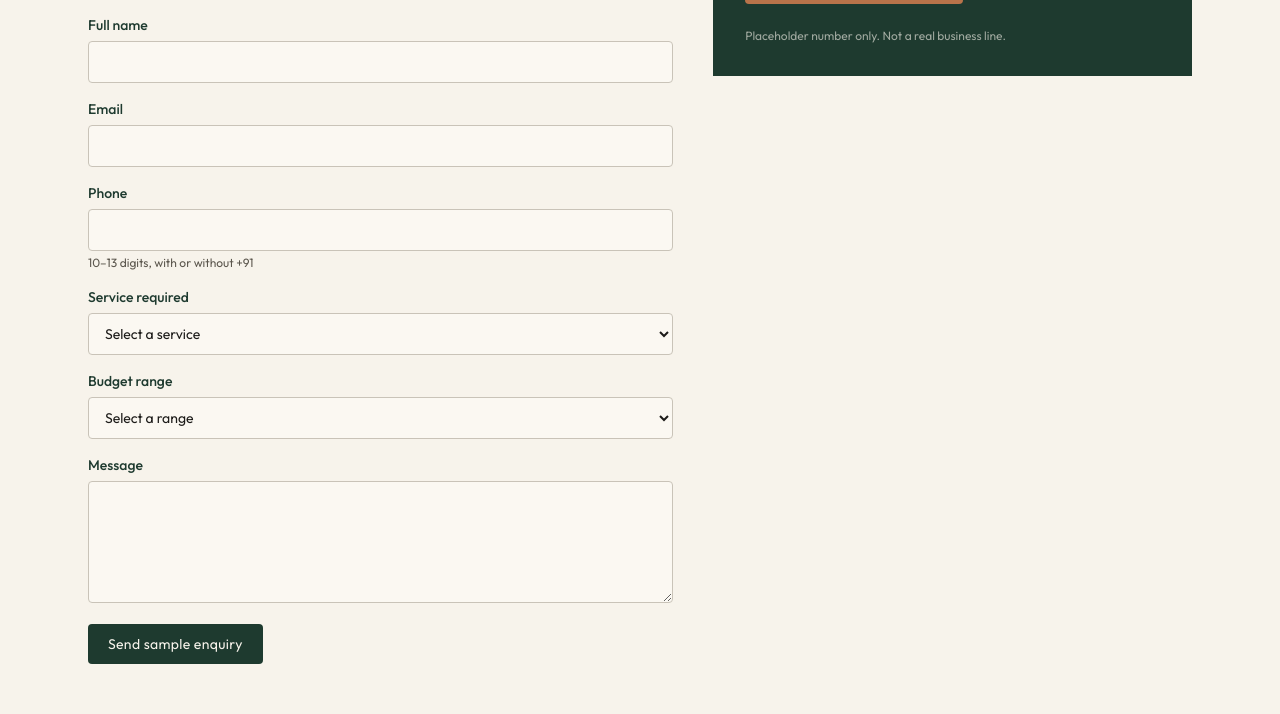
Test case: ContactPage › shows accessible errors when submitted empty
(page scrolled)
Click the button "Send sample enquiry".
click(175, 644)  # box x1=88 y1=624 x2=263 y2=664
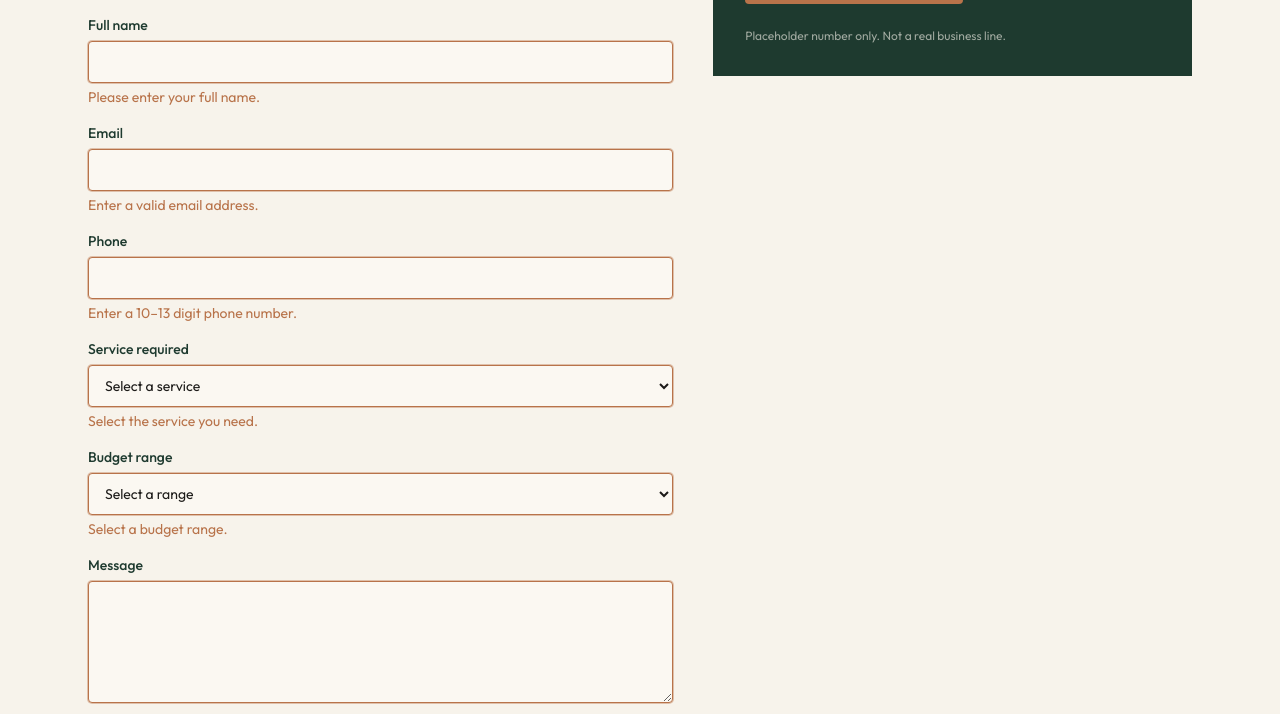
Expected: the text "Please enter your full name." is shown, x1=88 y1=88 x2=260 y2=106
